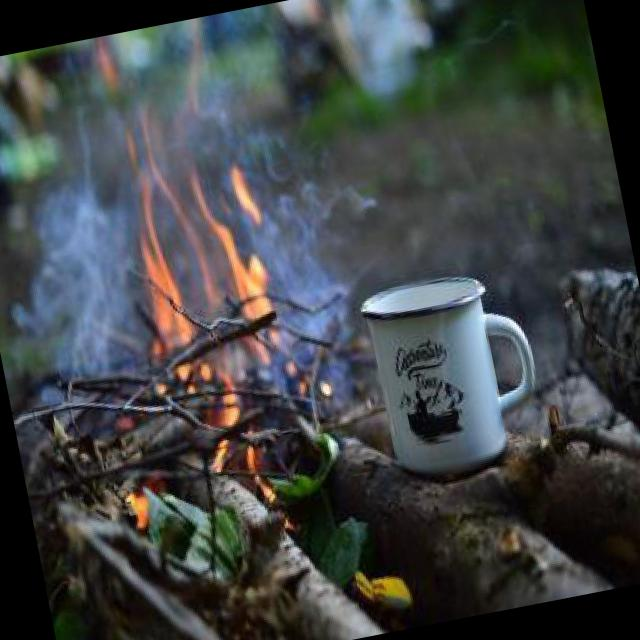Fire: (80, 11, 324, 522)
Smoke: (233, 116, 372, 401), (0, 182, 153, 391)
